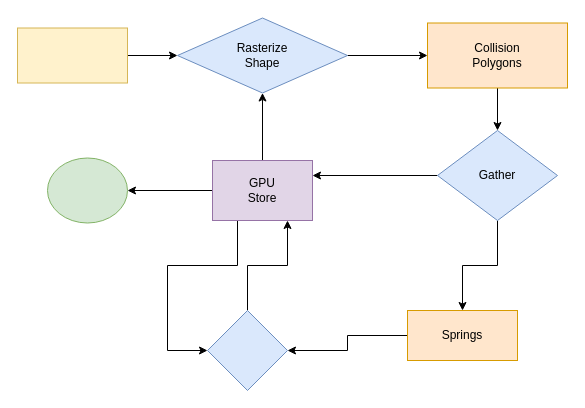
Image size: 585x408. Some labels were removed from this diagram. Each missing label, with the box of its shape:
Collision Shape: (16, 27, 128, 83)
CPU Mirror: (46, 157, 128, 223)
Step: (206, 310, 288, 390)
